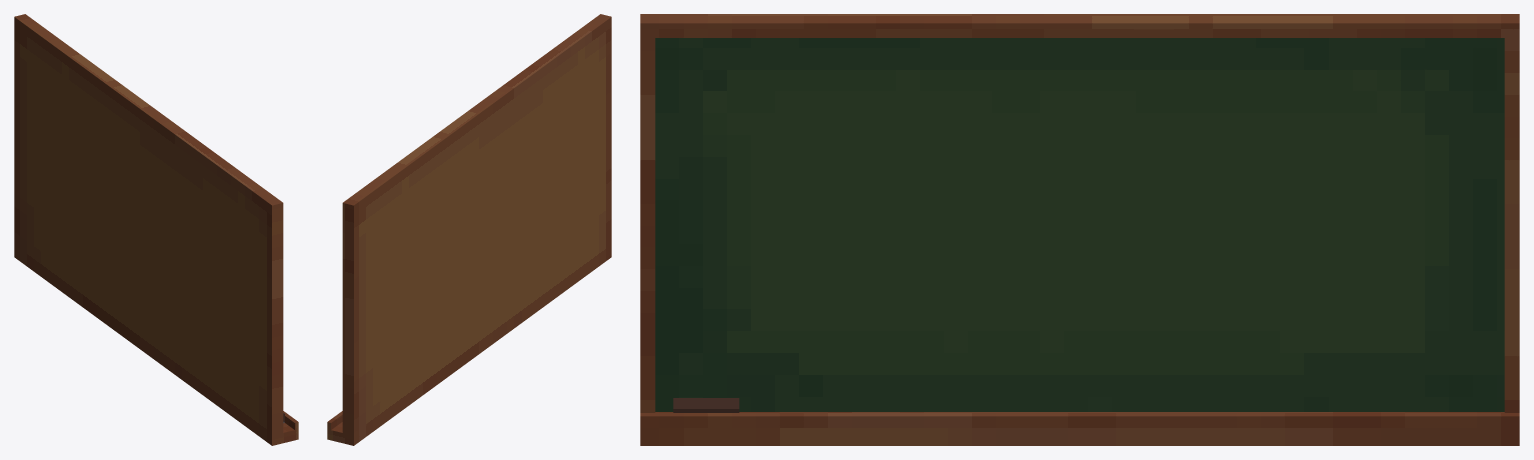
Rendered from Blackboard.fbx.
3 views of the same model, side by side, from view 1: azimuth 30°, elevation 25°; view 2: azimuth 150°, elevation 25°; view 3: azimuth 270°, elevation 25° (orthographic). The views are drawn at different scales.
Parts seen in each view (by area): view 1: Cube; view 2: Cube; view 3: Cube.
Part boxes in pixels (x1,y1,x2,y2): Cube: (14, 14, 298, 445); Cube: (327, 14, 611, 445); Cube: (640, 14, 1519, 445).
Size of the model in its own units: 63.86 by 550 by 1070.
1 material, 1 textured.
